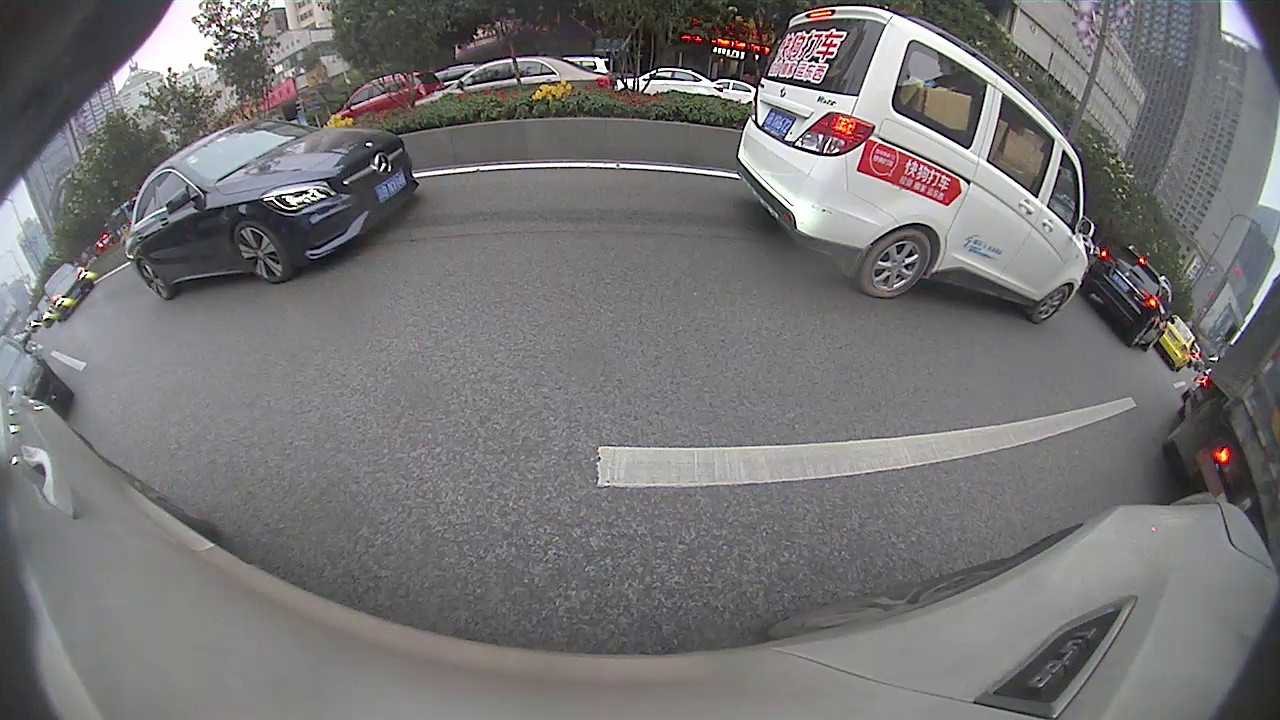car: (737, 6, 1090, 328), (125, 118, 419, 305), (1081, 239, 1171, 353), (40, 266, 98, 320), (1153, 314, 1194, 371)
front: (234, 225, 287, 284), (1029, 287, 1069, 325)
rear: (862, 233, 933, 300), (137, 258, 173, 301)
